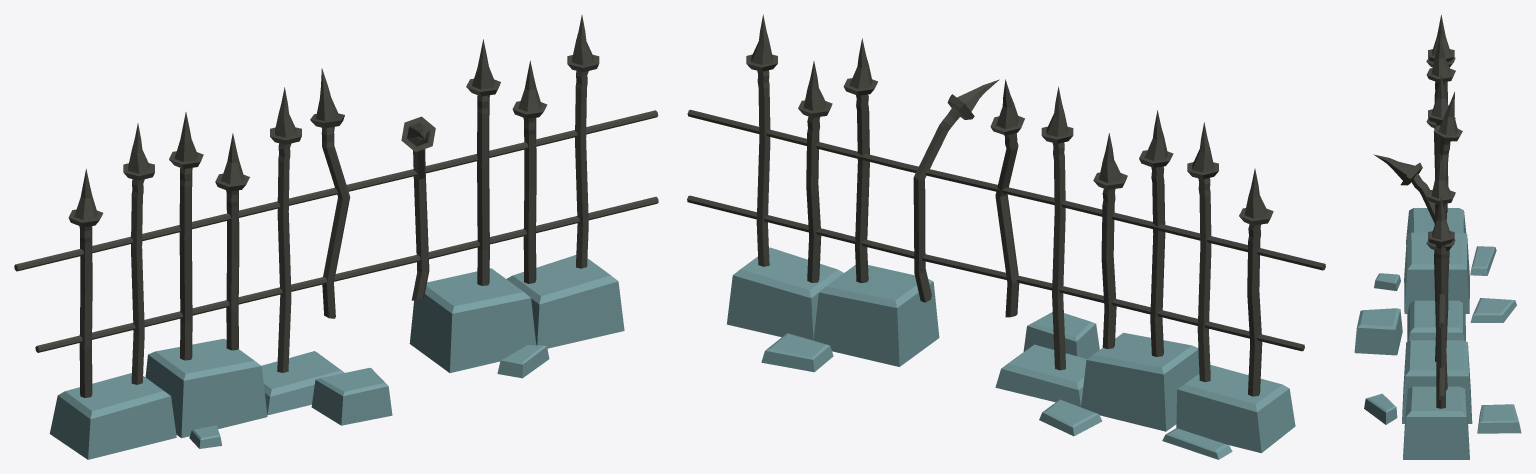
File: Cementery_Fence.fbx
3 views of the same model, side by side, from view 1: azimuth 30°, elevation 25°; view 2: azimuth 150°, elevation 25°; view 3: azimuth 270°, elevation 25° (orthographic). The views are drawn at different scales.
Visible parts, largest first — view 1: FenceSection002; view 2: FenceSection002; view 3: FenceSection002.
Boxes of the visible parts, <box> form: FenceSection002: <box>14,15,658,459</box>; FenceSection002: <box>687,14,1325,459</box>; FenceSection002: <box>1354,15,1521,459</box>.
Bounding box in the file's own units: 281 × 129 × 75.61.
